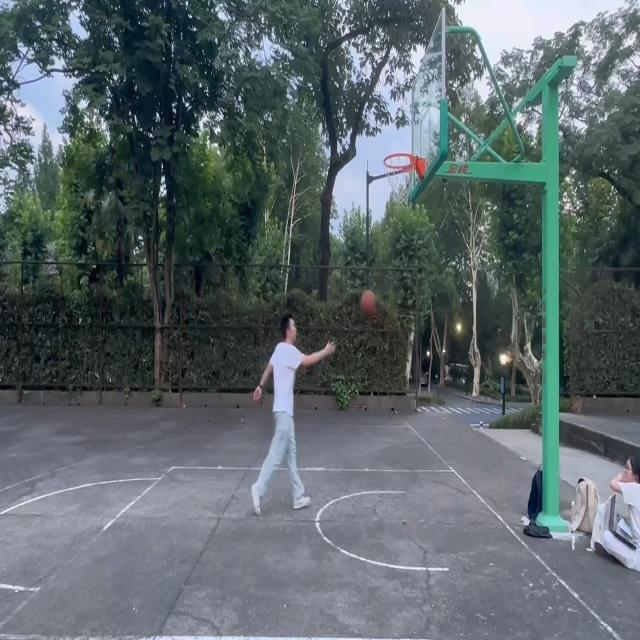basketball: (384, 152, 426, 207)
rim: (360, 290, 376, 316)
